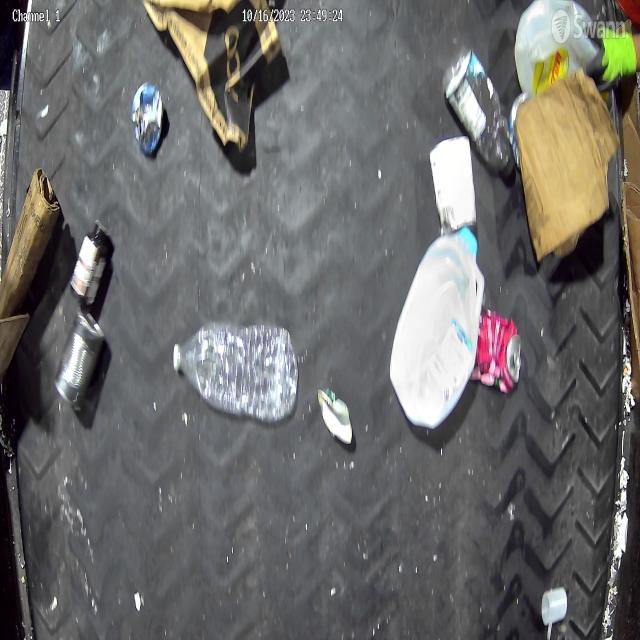can: (54, 306, 104, 410), (476, 302, 522, 394), (132, 81, 164, 154)
milk_jug: (390, 228, 487, 427), (516, 0, 603, 94)
plastic_bottle: (171, 322, 297, 422), (443, 45, 515, 182)
